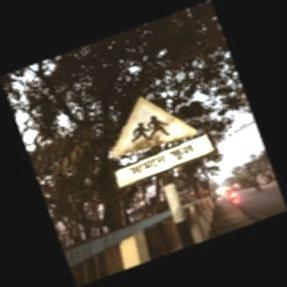School-in-front: (108, 95, 215, 192)
